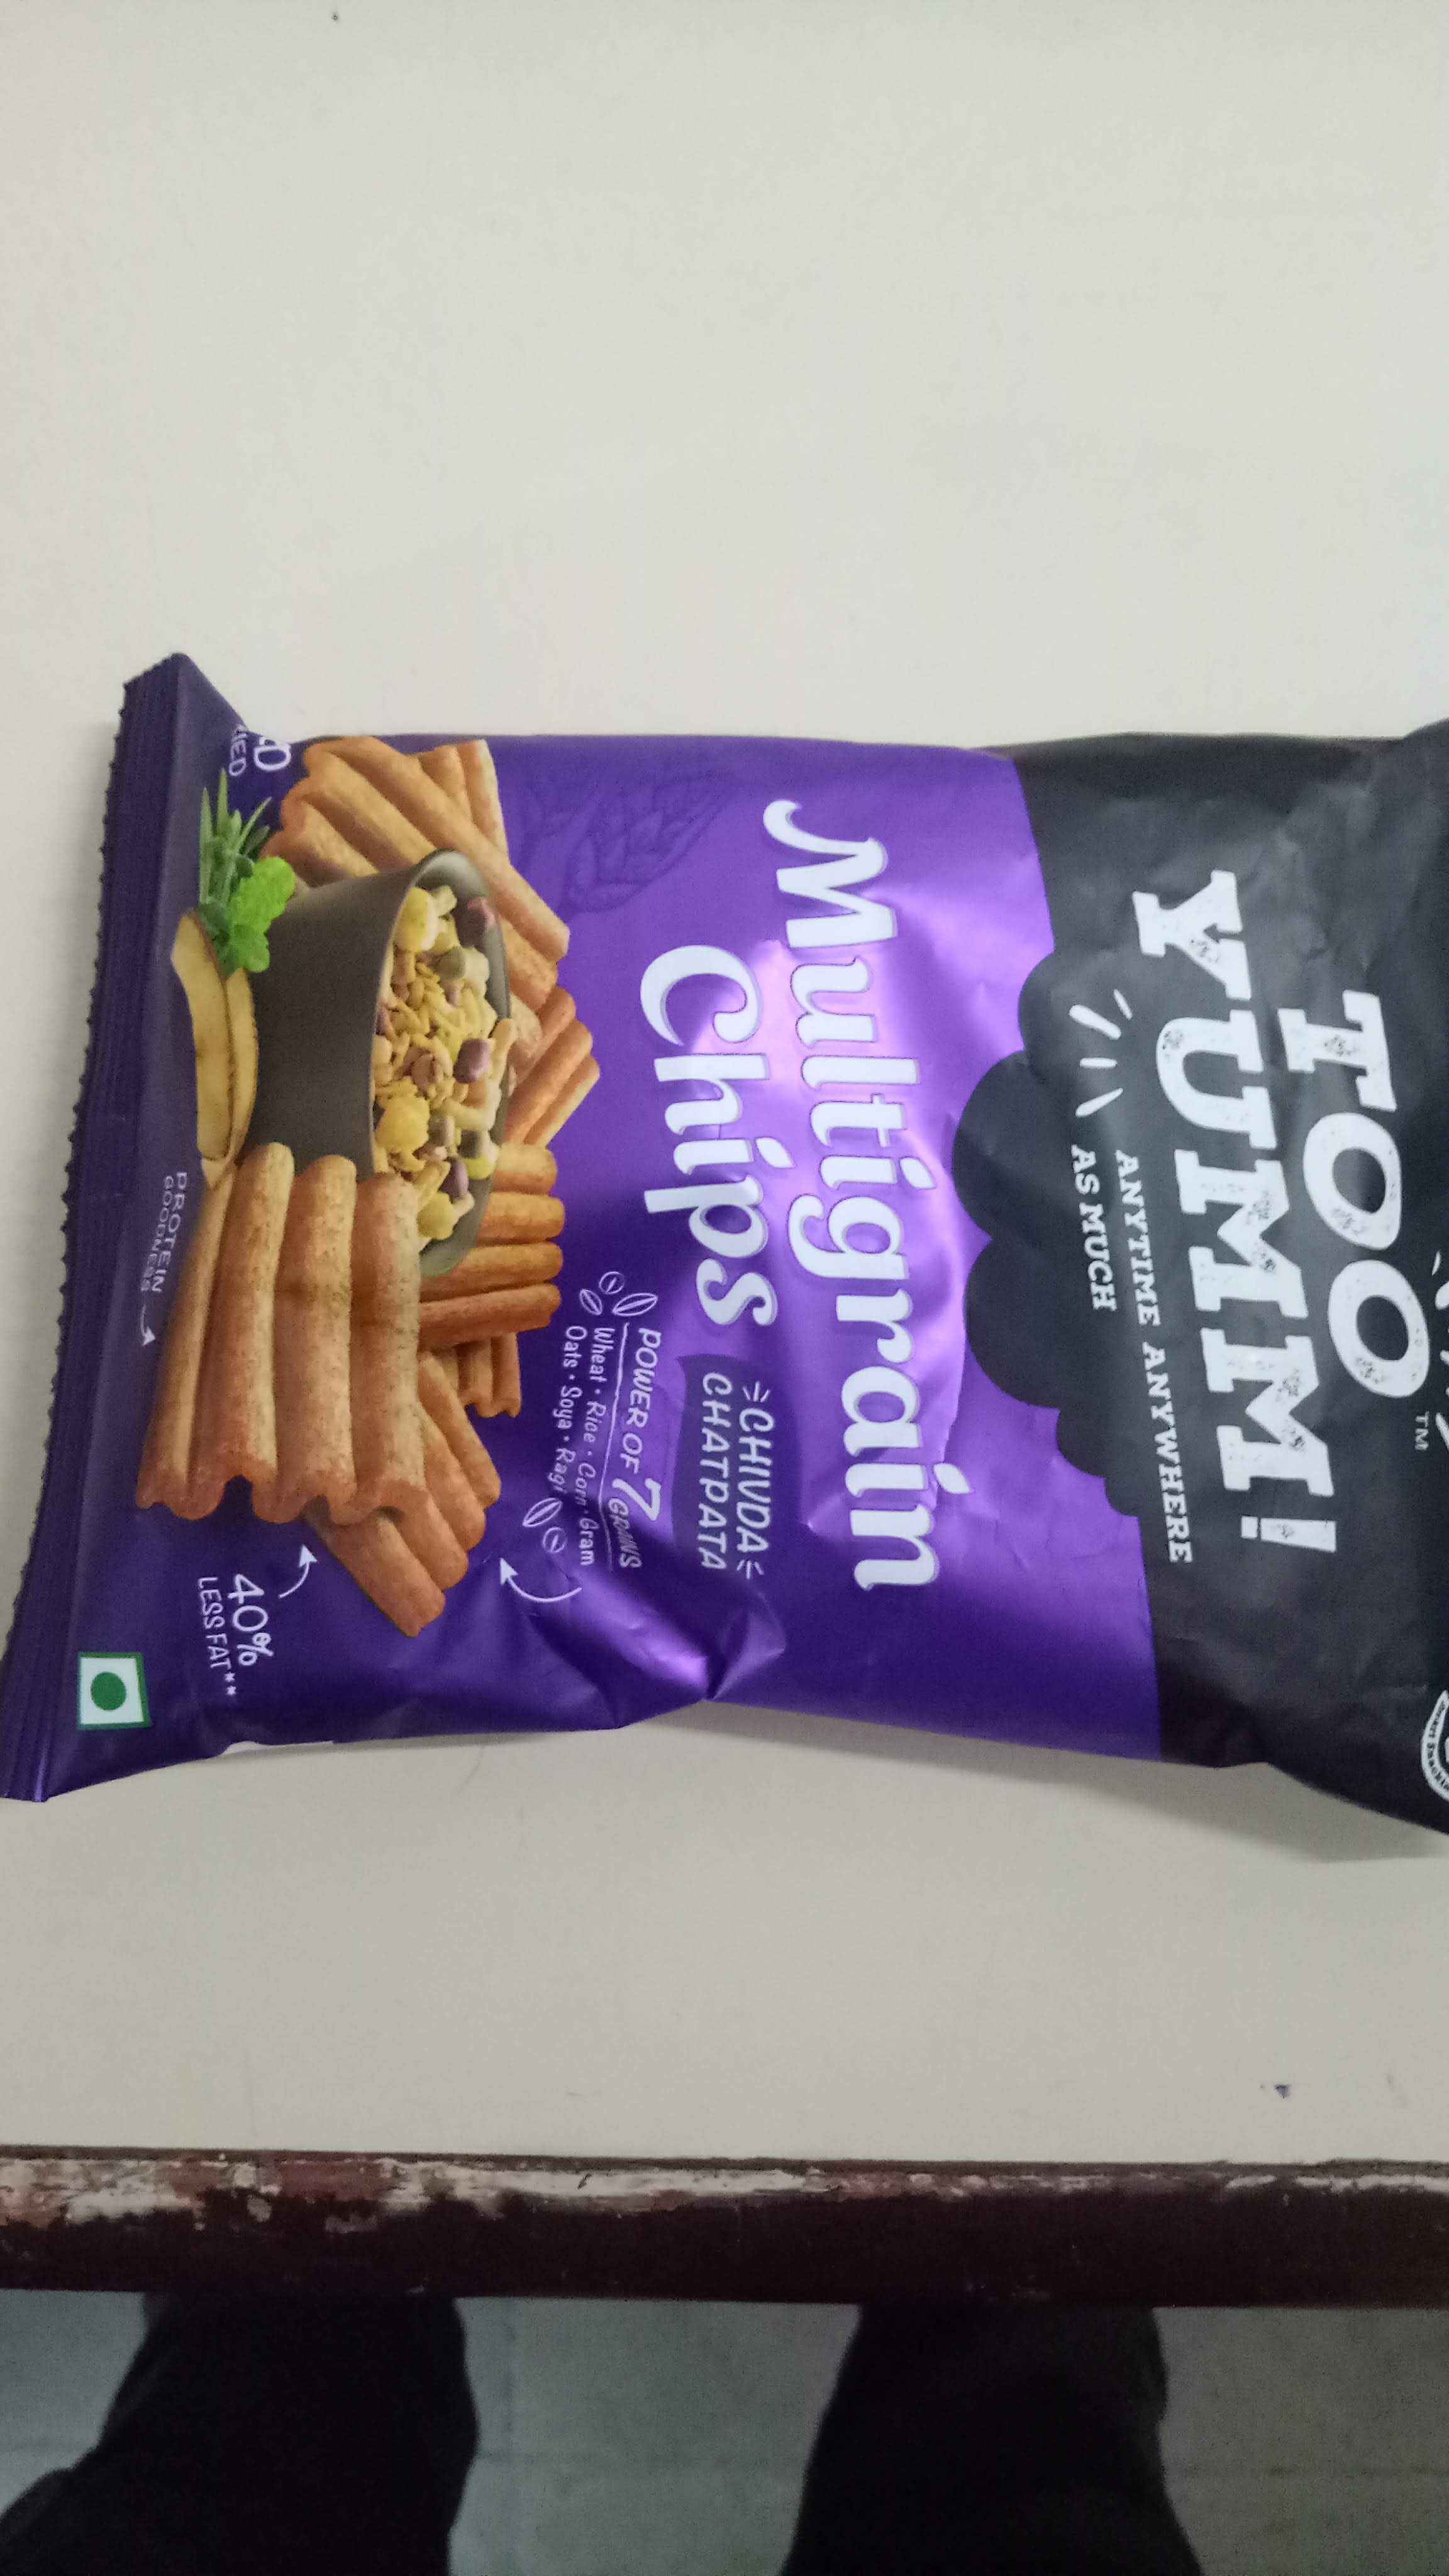tooyumm: (1113, 826, 1437, 1608)
